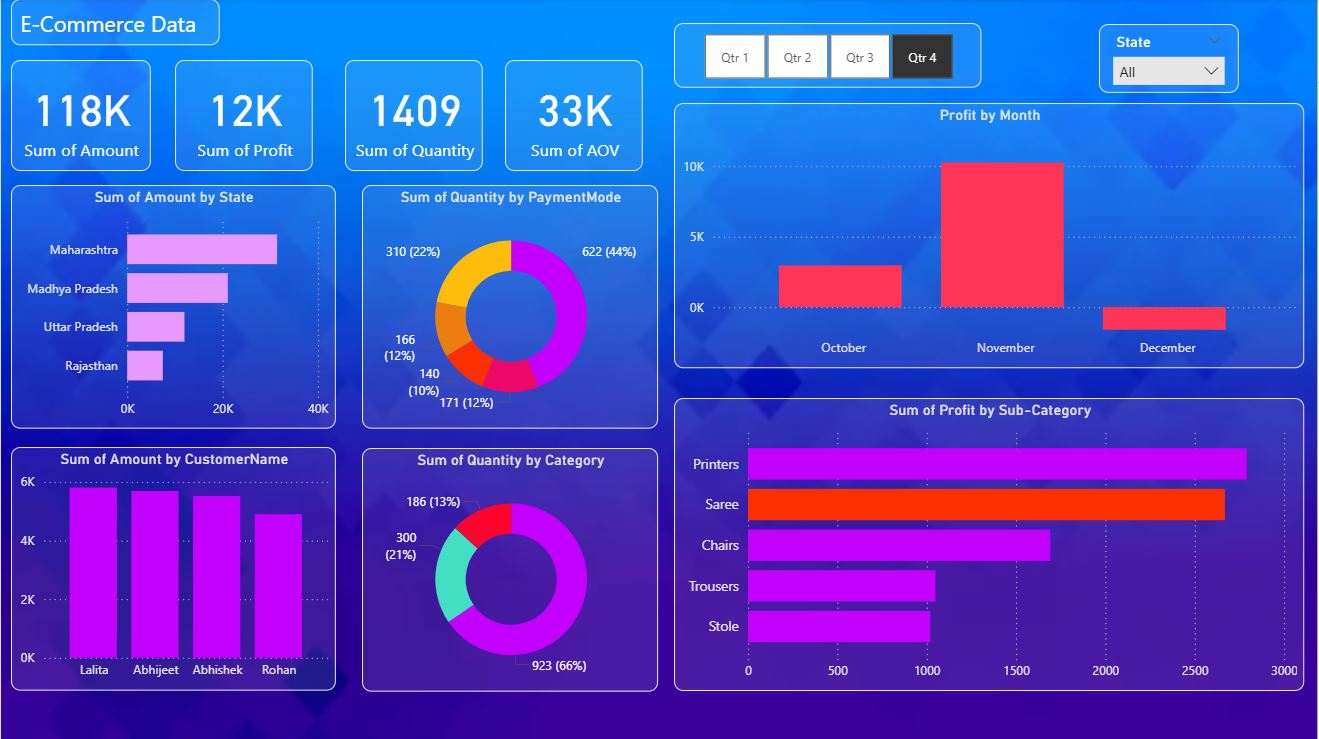

The dashboard page shown, as its layout file describes it:
{"tool":"powerbi","page":{"name":"Page 1","canvas":[1280,720],"ordinal":0},"visuals":[{"type":"columnChart","title":"Profit by Month","fields":{"Y":["Detail.Profit"],"Category":["Order.Order Date.Variation.Date Hierarchy.Month"]},"box":[654.5,101.5,613.4,258],"z":0},{"type":"barChart","fields":{"Category":["Detail.Sub-Category"],"Y":["Detail.Profit"]},"box":[654.5,388.3,613.4,285.4],"z":1000},{"type":"donutChart","fields":{"Category":["Detail.Category"],"Y":["Detail.Quantity"]},"box":[351.3,436.4,288.2,237.4],"z":2000},{"type":"donutChart","fields":{"Y":["Detail.Quantity"],"Series":["Detail.PaymentMode"]},"box":[351.3,181.1,288.2,237.4],"z":3000},{"type":"card","fields":{"Values":["Detail.Amount"]},"box":[9.6,59,135.8,108.4],"z":4000},{"type":"card","fields":{"Values":["Detail.Quantity"]},"box":[334.8,59,134.5,108.4],"z":5000},{"type":"card","fields":{"Values":["Detail.Profit"]},"box":[168.8,59,134.5,108.4],"z":6000},{"type":"card","fields":{"Values":["Detail.AOV"]},"box":[489.9,59,134.5,108.4],"z":7000},{"type":"barChart","fields":{"Category":["Order.State"],"Y":["Detail.Amount"]},"box":[9.6,181.1,315.6,237.4],"z":8000},{"type":"columnChart","fields":{"Category":["Order.CustomerName"],"Y":["Detail.Amount"]},"box":[10,436,316,237],"z":9000},{"type":"textbox","box":[9.6,0,203.1,45.3],"z":10000},{"type":"slicer","fields":{"Values":["Order.Order Date.Variation.Date Hierarchy.Quarter"]},"box":[654.5,23.3,299.1,63.1],"z":11000},{"type":"slicer","fields":{"Values":["Order.State"]},"box":[1067.6,24.7,135.8,67.2],"z":12000}]}

Visuals, with their boxes in screenshot pixels (x1, y1, x2, y2), scaled from the page's 1280x720 canvas onto the 1319x739 screenshot:
"Profit by Month" columnChart: 674,104,1307,369
barChart - Detail.Sub-Category x Detail.Profit: 674,399,1307,691
donutChart - Detail.Category x Detail.Quantity: 362,448,659,692
donutChart - Detail.Quantity x Detail.PaymentMode: 362,186,659,430
card - Detail.Amount: 10,61,150,172
card - Detail.Quantity: 345,61,484,172
card - Detail.Profit: 174,61,313,172
card - Detail.AOV: 505,61,643,172
barChart - Order.State x Detail.Amount: 10,186,335,430
columnChart - Order.CustomerName x Detail.Amount: 10,448,336,691
textbox: 10,0,219,46
slicer - Order.Order Date.Variation.Date Hierarchy.Quarter: 674,24,983,89
slicer - Order.State: 1100,25,1240,94
